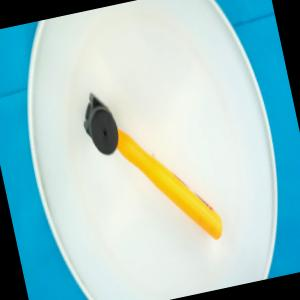martelo: (76, 71, 225, 262)
